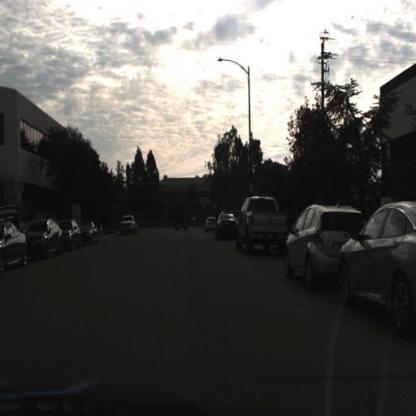car: (338, 199, 416, 332), (280, 198, 365, 286), (234, 192, 285, 256), (0, 216, 29, 272), (26, 216, 63, 257), (211, 210, 238, 243), (56, 218, 80, 252), (214, 210, 236, 242), (78, 219, 100, 247), (118, 211, 140, 237), (174, 209, 189, 233), (204, 214, 217, 234)
